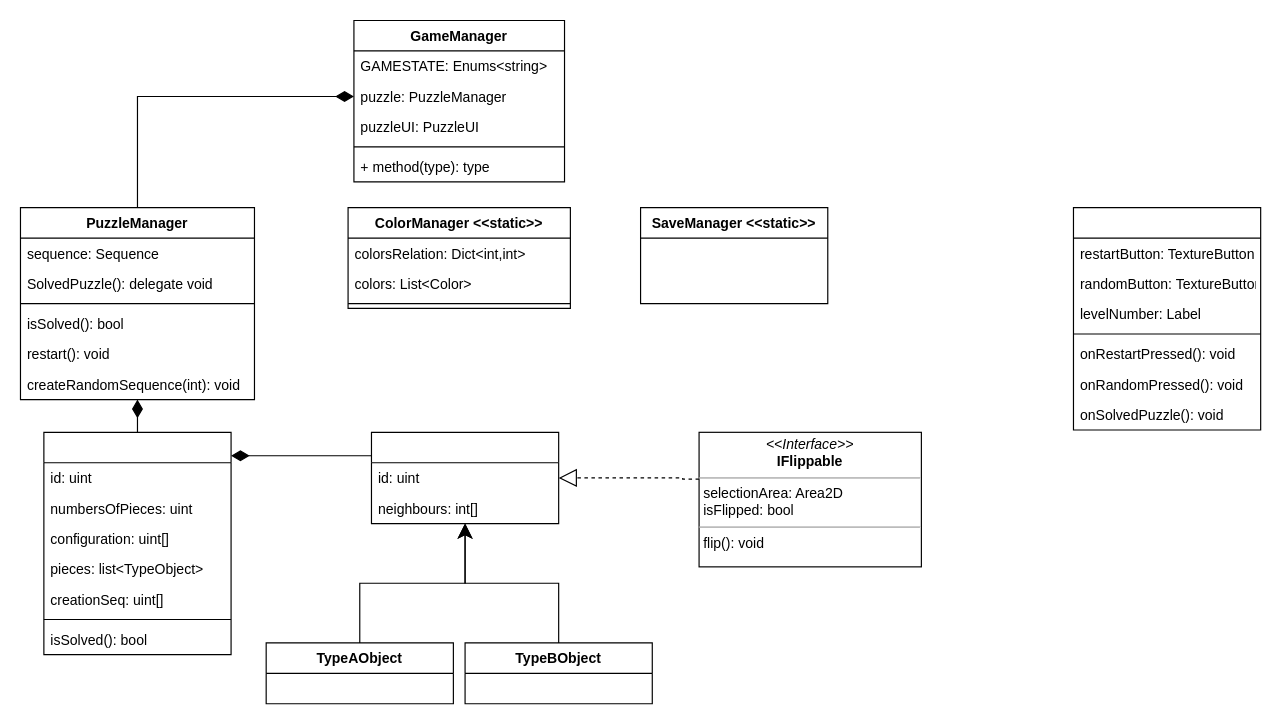
Some shapes in this 1281 by 724 pixel diagram are drawn without their labels. The shapes that lost their labels are listed below. From the top down, each one's box as (x1, y1, x2, y2) in pixels, then its label:
(1072, 207, 1261, 430): PuzzleUI
(370, 431, 559, 524): Object : Sprite
(43, 431, 231, 655): Sequence
